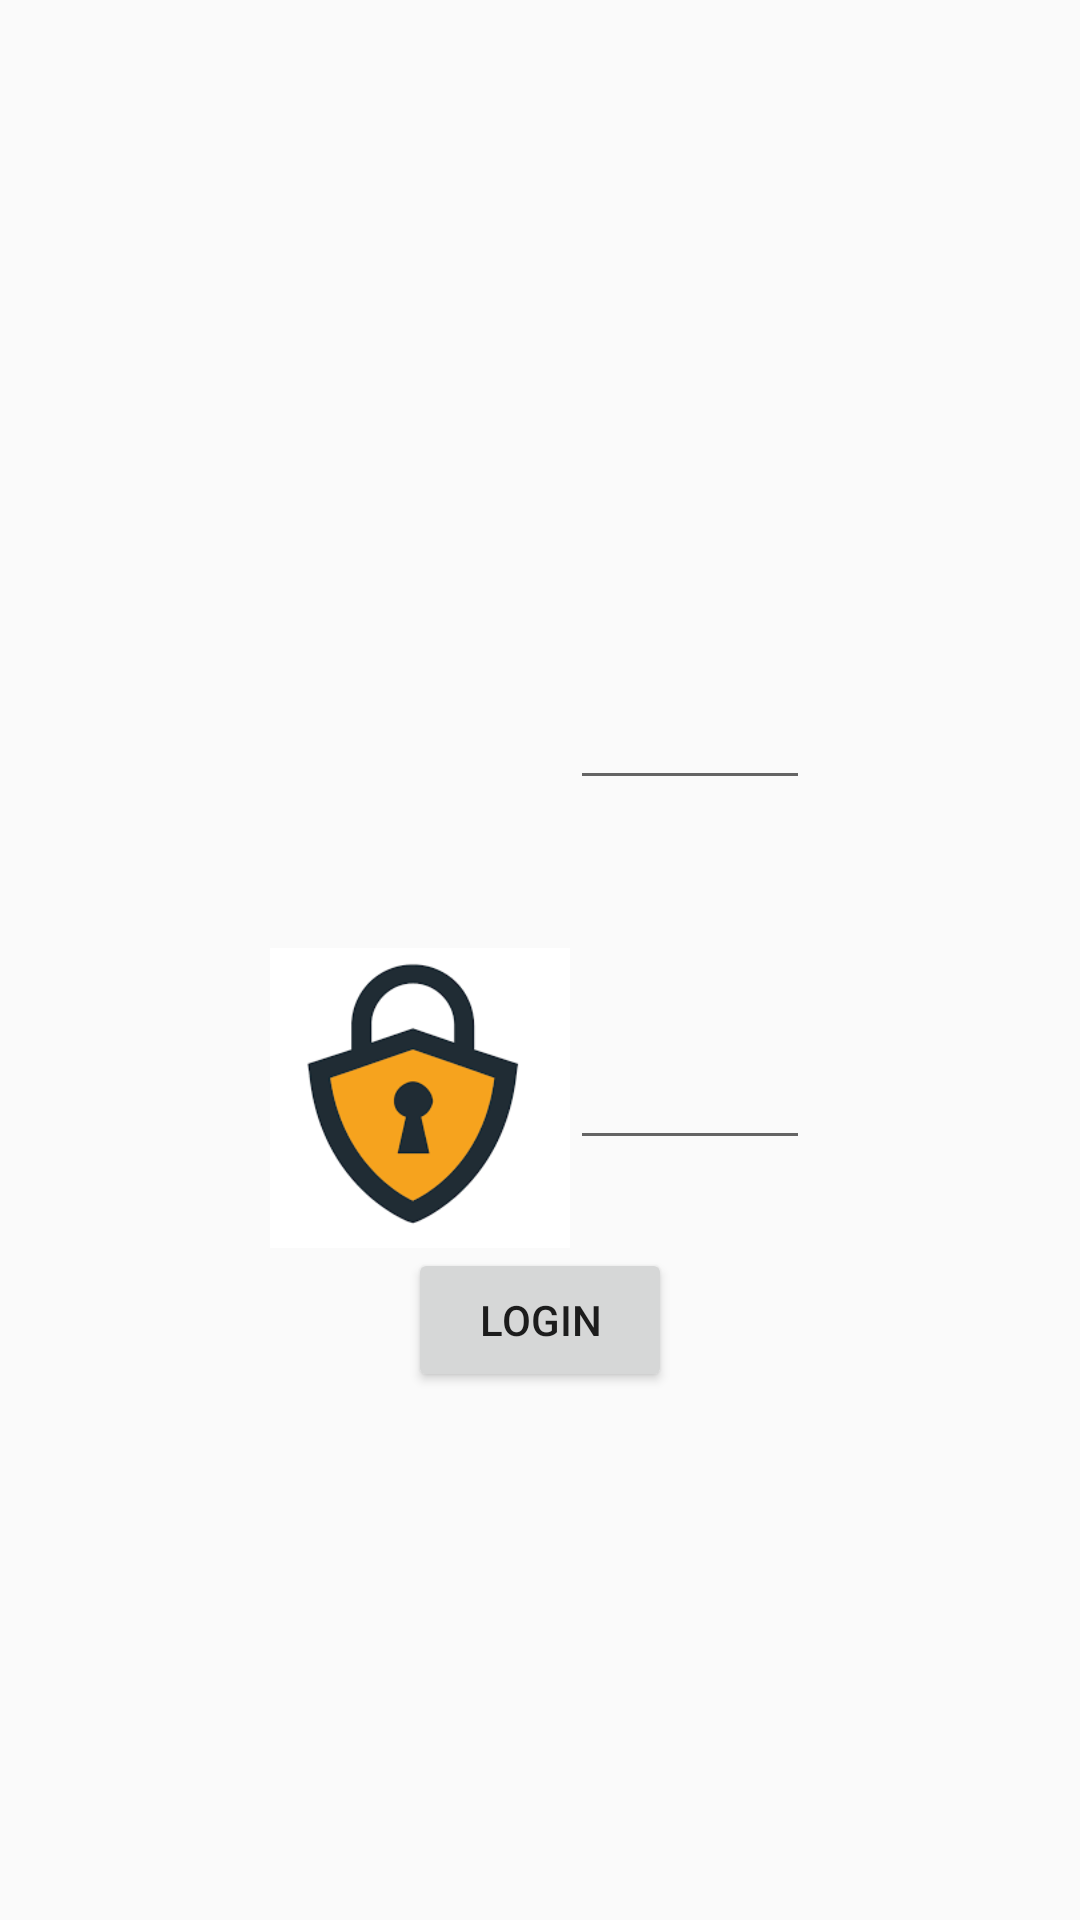

Icon bounding boxes for this 1080 x 1920 phone screenshot, format [x1,y1,x2,y2]:
password: [307,964,519,1224]
